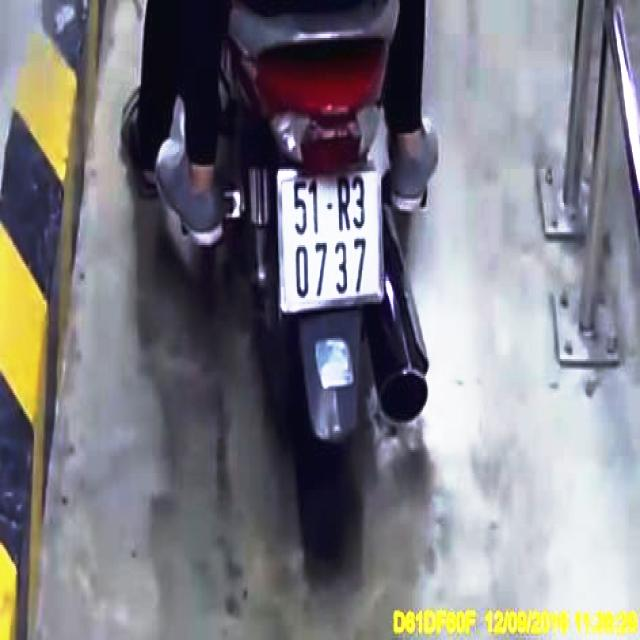license_plate: (281, 170, 382, 305)
